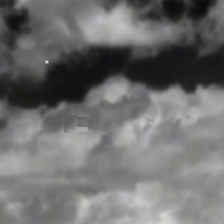Target: (44, 59, 49, 65)
